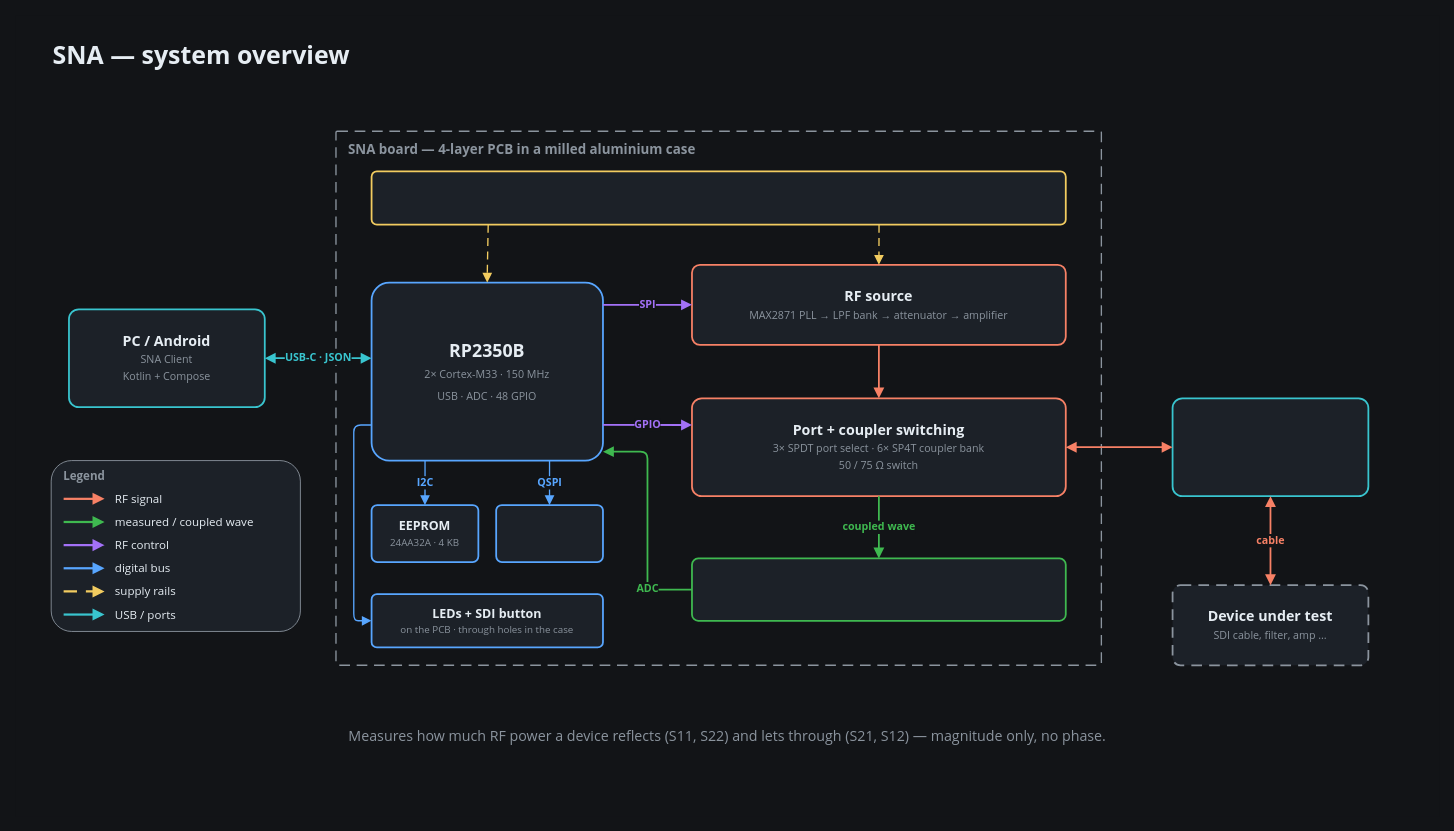
Some shapes in this 1454 by 831 pixel diagram are drawn without their labels. The centre of each missing label's shape, as x and y in pixels:
"AD8318 log detector RF power → DC voltage" goes at (878,589).
"Flash W25Q128 · 16 MB" goes at (549,533).
"Port 1 · Port 2 SMA 50 Ω / BNC 75 Ω" goes at (1270,447).
"Power USB 5 V → boost 6 V → LDOs for RF · buck 3.3 V for digital" goes at (718,197).
